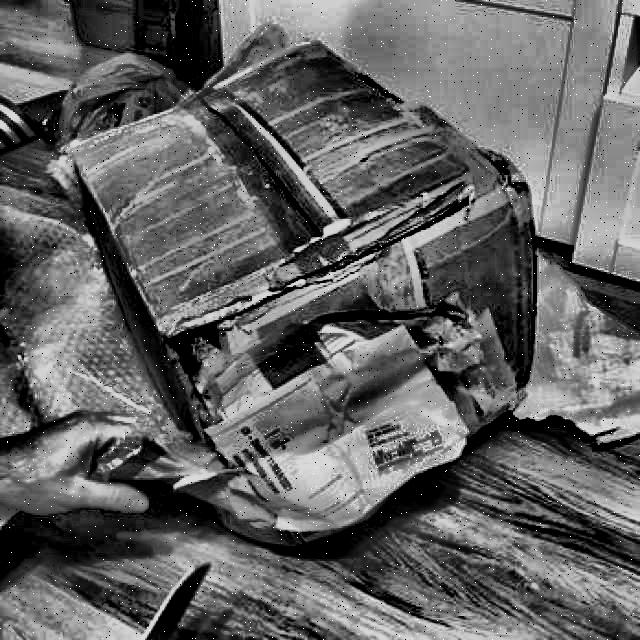box: (51, 22, 546, 568)
hole: (159, 317, 244, 413)
